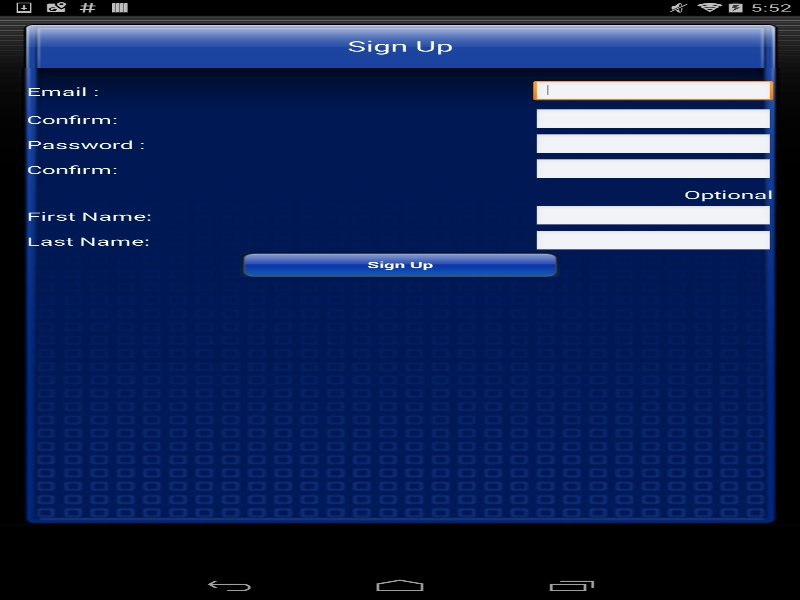Button: (240, 252, 560, 277)
Input: (533, 80, 773, 102), (533, 108, 773, 130), (533, 133, 773, 155), (533, 158, 773, 180), (533, 205, 773, 227), (533, 230, 773, 252)
